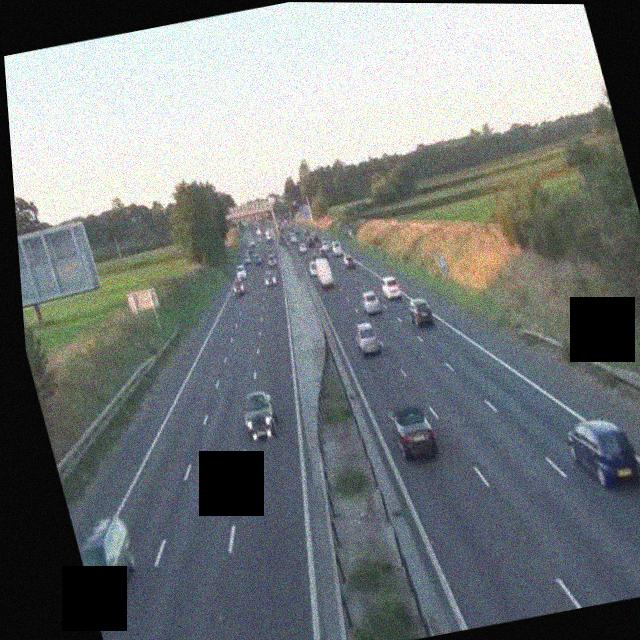car: (71, 513, 152, 623), (563, 412, 640, 493), (386, 401, 440, 462), (238, 387, 283, 442), (405, 294, 438, 330), (353, 321, 383, 357), (359, 288, 383, 315), (380, 275, 404, 302), (314, 262, 336, 289), (231, 275, 247, 296), (261, 266, 277, 285), (342, 250, 356, 269), (307, 257, 321, 276), (236, 264, 250, 282), (323, 239, 337, 257), (265, 251, 279, 266), (295, 242, 307, 256)
